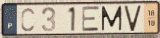1: (67, 5, 77, 32)
3: (41, 6, 57, 33)
C: (20, 7, 35, 33)
E: (81, 5, 100, 33)
M: (100, 5, 123, 33)
V: (123, 4, 143, 33)
